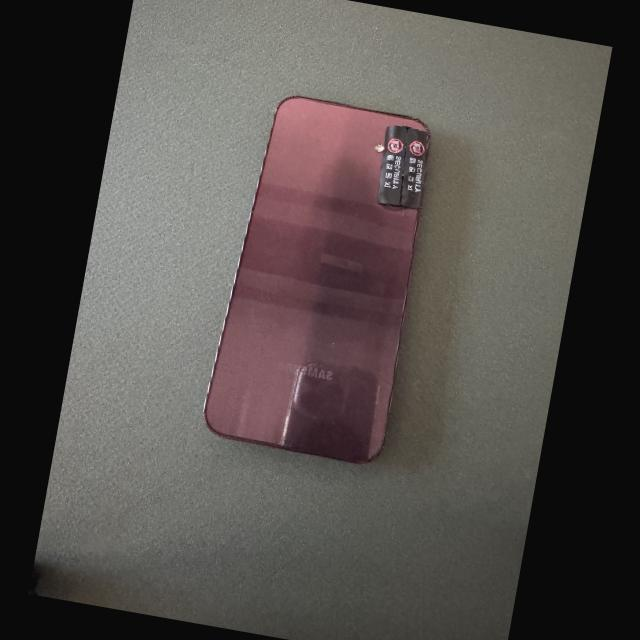lens: (404, 126, 409, 144), (399, 185, 402, 206), (401, 155, 404, 171)
phone: (204, 96, 429, 462)
sticker: (400, 128, 429, 208), (377, 125, 406, 205)
